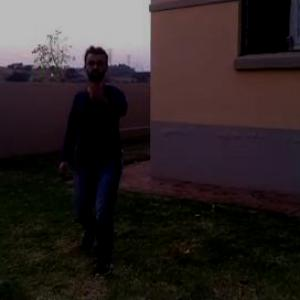takeoff-hand: (86, 73, 110, 107)
